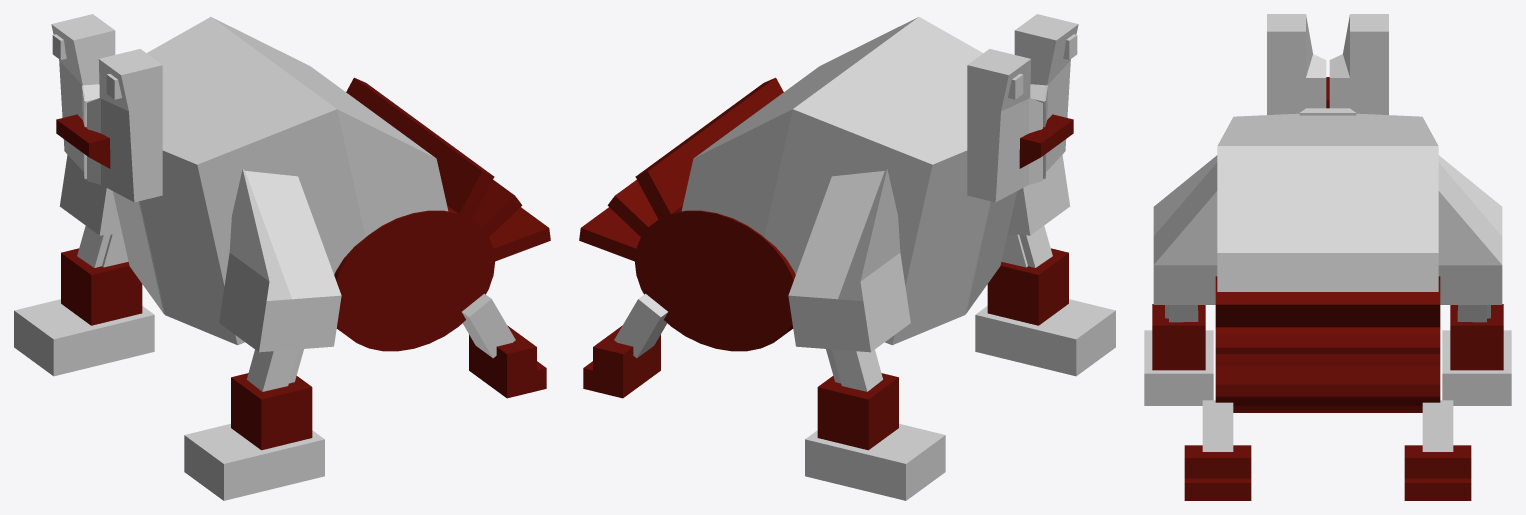
The model's file is Monster.fbx.
The picture shows the model from 3 angles, left to right: view 1: azimuth 30°, elevation 25°; view 2: azimuth 150°, elevation 25°; view 3: azimuth 270°, elevation 25°; orthographic projection. The views are drawn at different scales.
Visible parts, largest first — view 1: Cube.009; view 2: Cube.009; view 3: Cube.009.
Part boxes in pixels (x1,y1,x2,y2): Cube.009: (14, 14, 550, 500); Cube.009: (579, 14, 1115, 500); Cube.009: (1144, 14, 1511, 500).
Size of the model in its own units: 1516 by 1338 by 1329.
